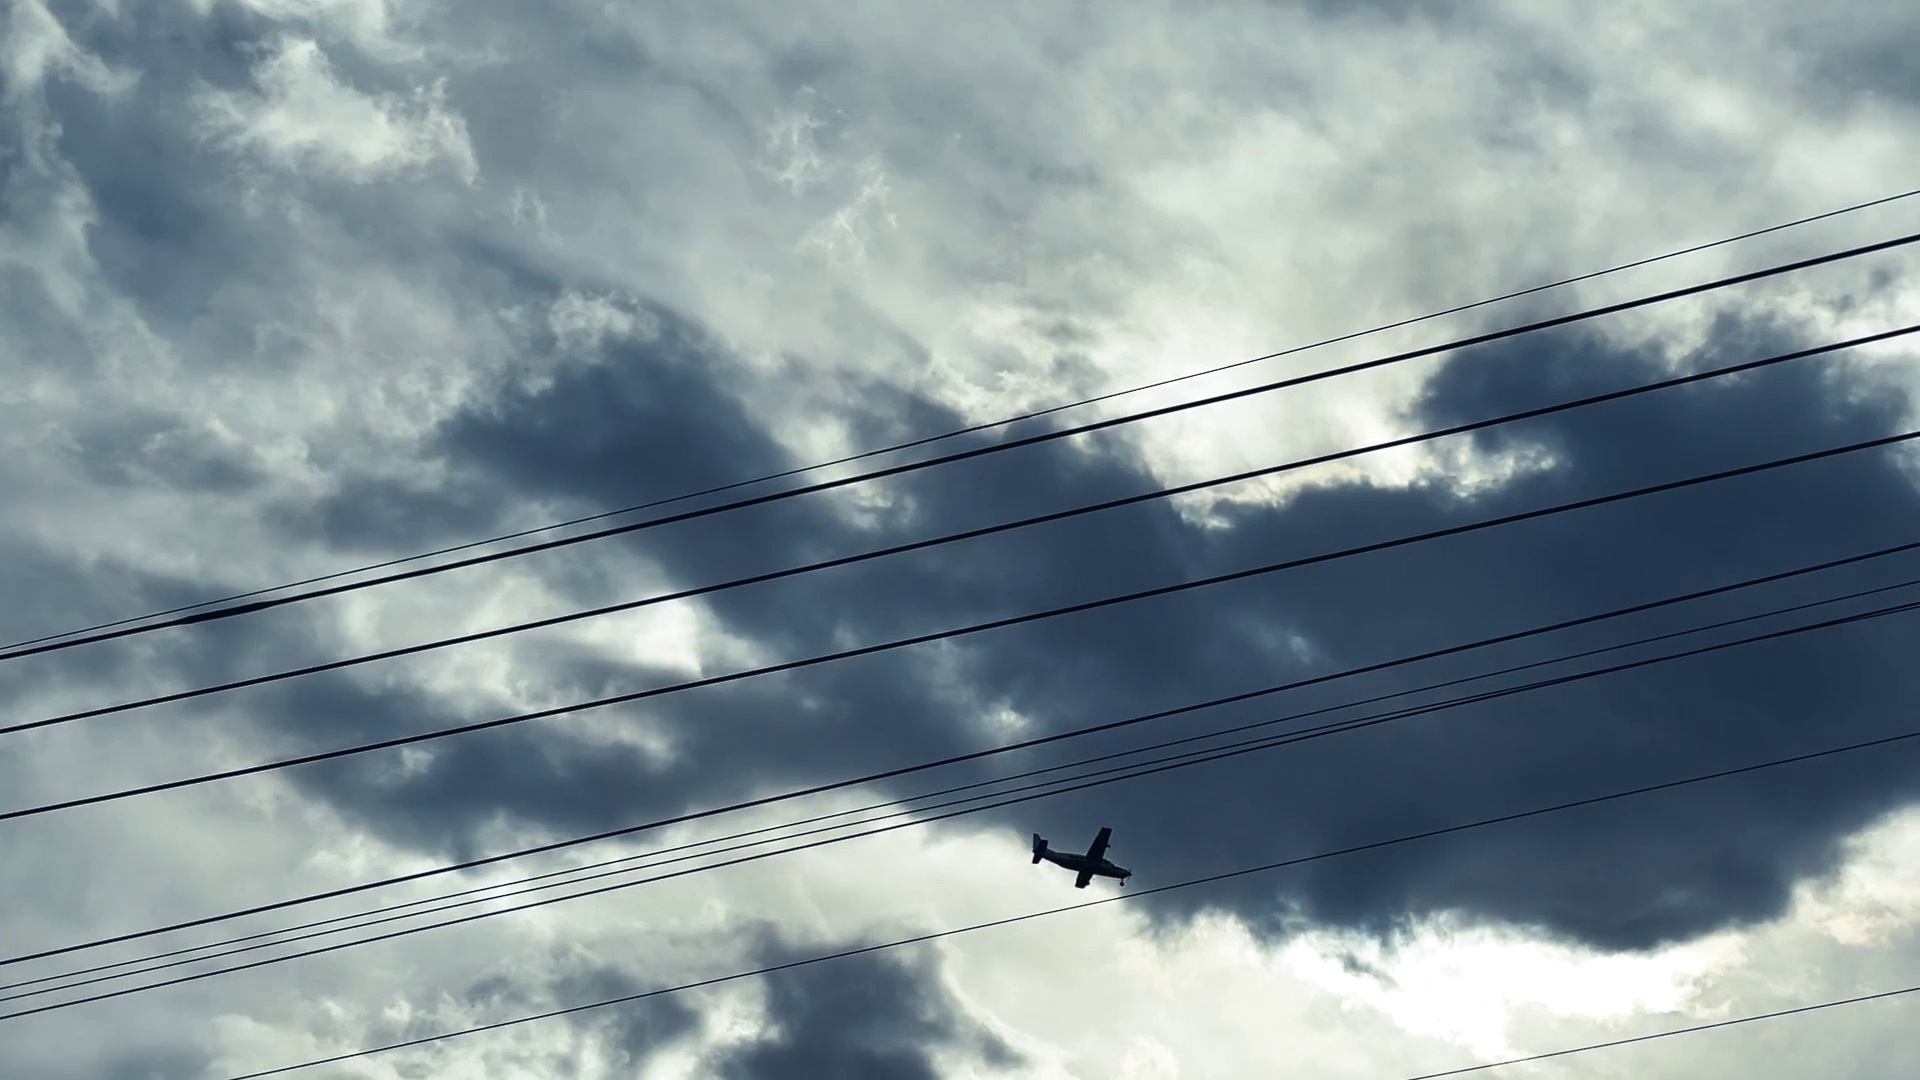plane: (1030, 825, 1134, 887)
